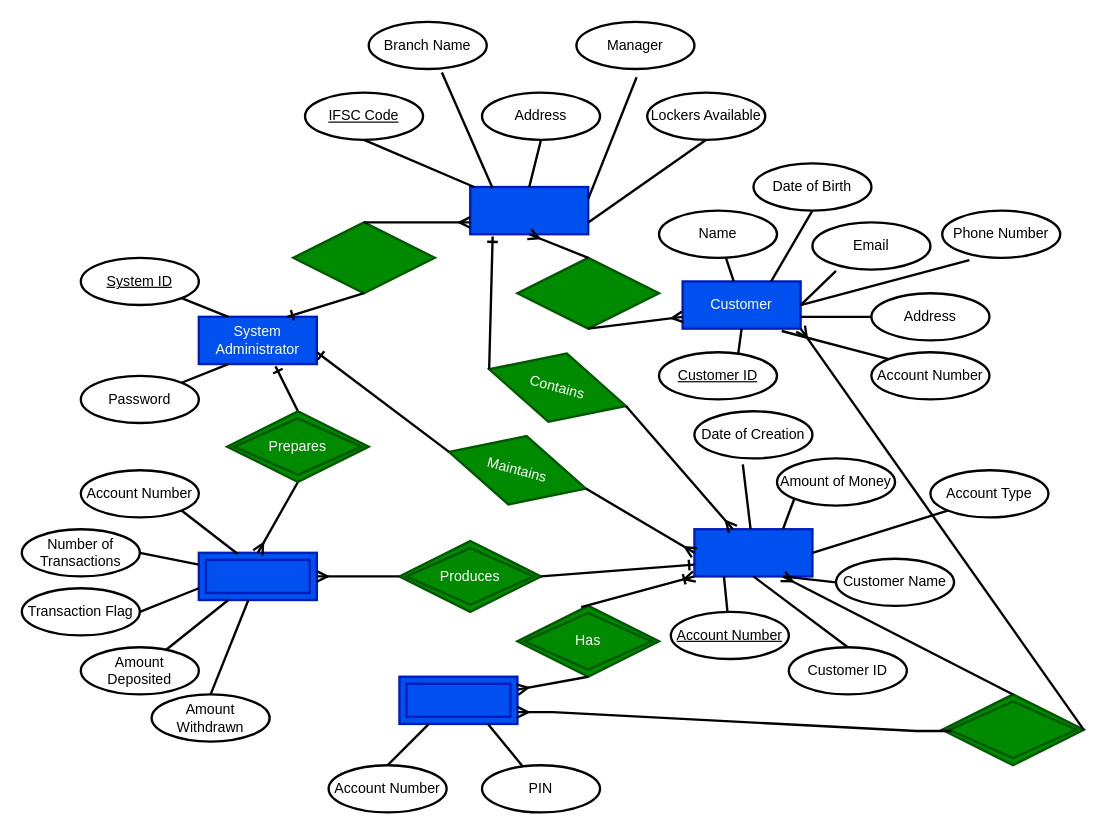
This 1114x833 diagram has some shape labels left out. Here are the shapes that lost their labels. From the top down, the centre of each, then its label:
At pixel 528 210: "Bank Branch".
At pixel 363 257: "Manages".
At pixel 588 292: "Access".
At pixel 753 552: "Account".
At pixel 257 576: "Transaction Logs".
At pixel 458 700: "ATM".
At pixel 1012 729: "Have".
